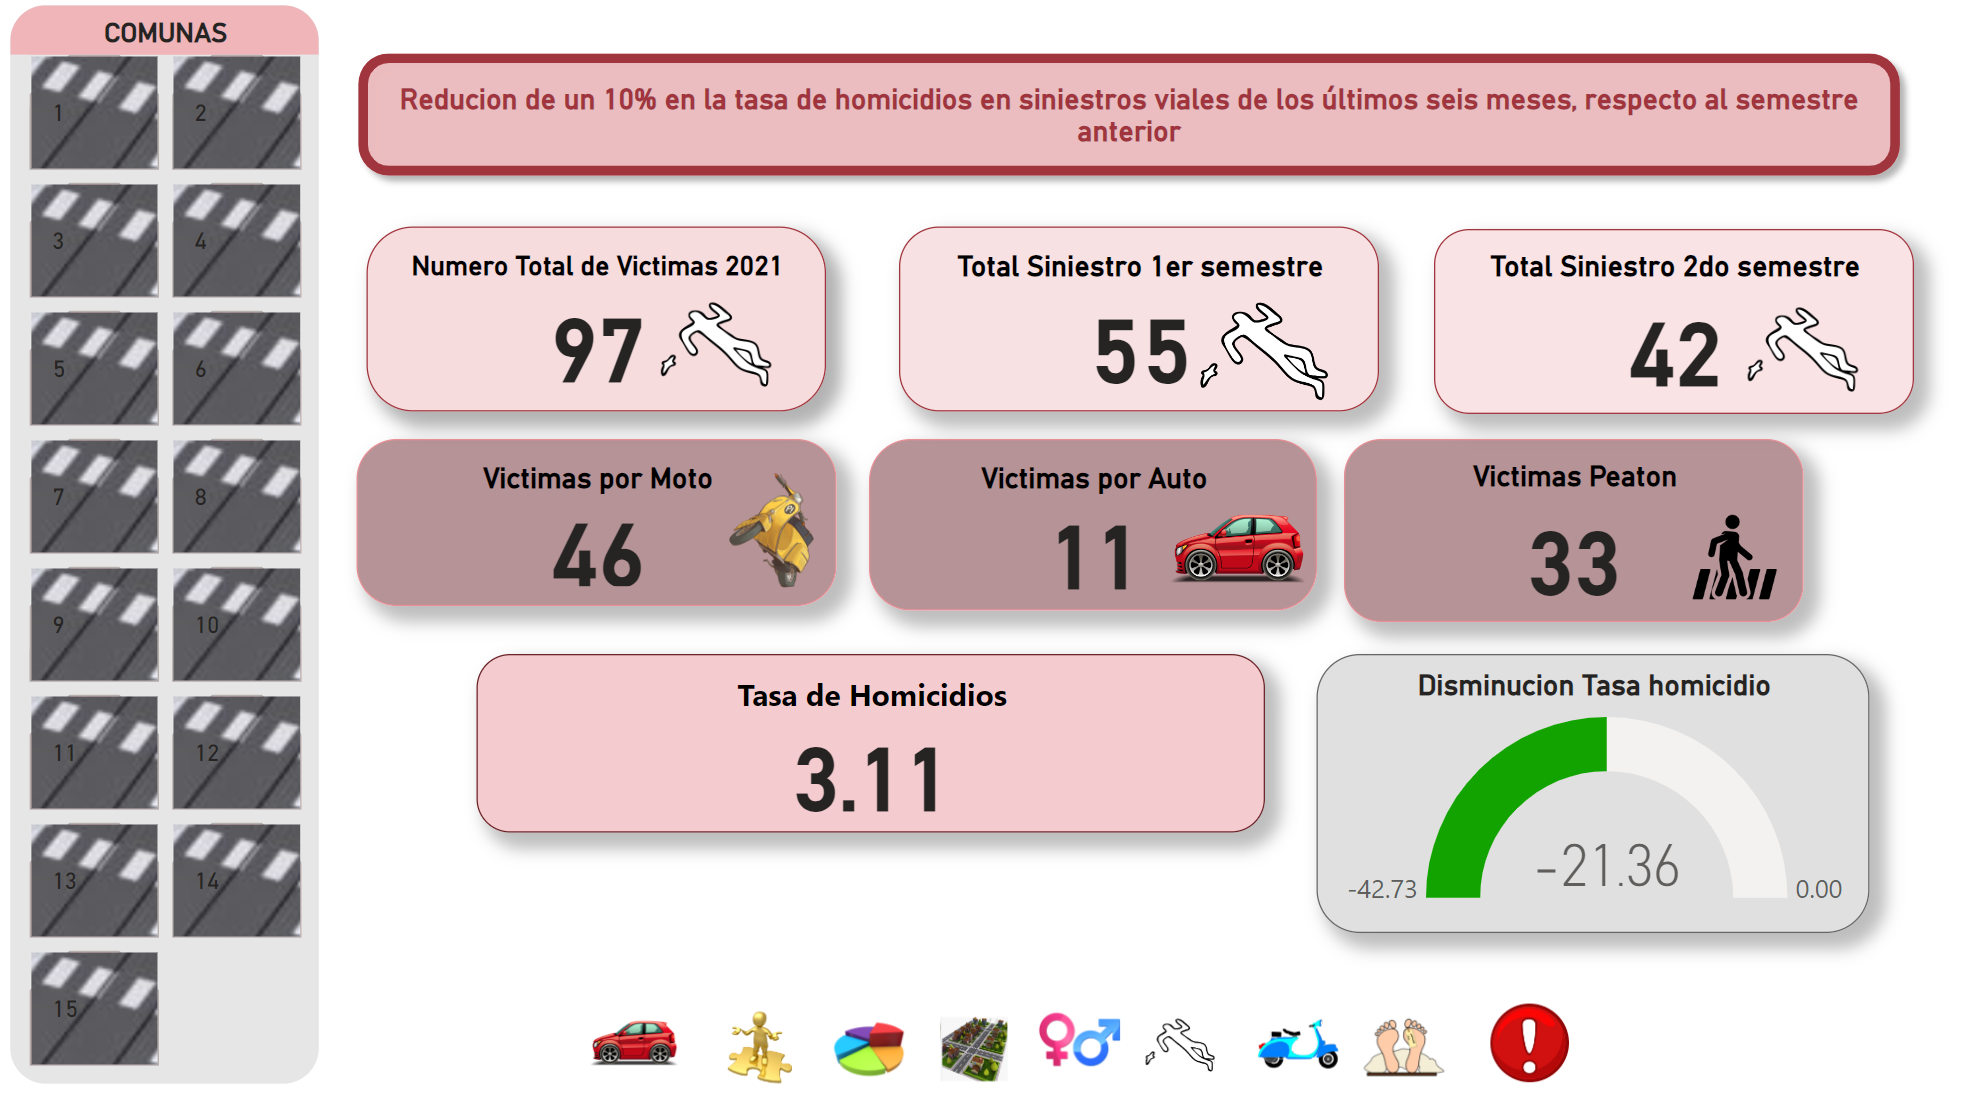

Layout of this report page (visuals, bound fields, positions):
{"tool":"powerbi","page":{"name":"KPI 1","canvas":[1280,720],"ordinal":3},"visuals":[{"type":"card","title":"Siniestros 2021 Total","fields":{"Values":["Homicidios_clean.Total_SiniestrosViales_2021"]},"box":[160.4,182.4,280.2,164.8],"z":0},{"type":"card","title":"Siniestros 1 Semestre","fields":{"Values":["Homicidios_clean.SiniestrosViales_Semestre1_2021"]},"box":[537.4,183.5,280.2,164.8],"z":1000},{"type":"card","title":"Siniestros 2 Semestre","fields":{"Values":["Homicidios_clean.SiniestrosViales_Semestre2_2021_2"]},"box":[897.8,183.5,281.3,163.7],"z":2000},{"type":"card","fields":{"Values":["Homicidios_clean.Tasa de Homicidios"]},"box":[228.6,429.7,281.3,164.8],"z":2002},{"type":"gauge","title":"Disminucion tasa Homicidio","fields":{"Y":["Homicidios_clean.Porcentaje de Reducción"]},"box":[611,429.7,515.4,164.8],"z":2003},{"type":"textbox","box":[107.7,37.4,1071.4,117.6],"z":2004},{"type":"actionButton","box":[0,0,62.6,37.4],"z":2005},{"type":"actionButton","box":[1180.2,17.6,61.5,39.6],"z":2006}]}

Visuals, with their boxes in screenshot pixels (x1, y1, x2, y2), scaled from the page's 1280x720 canvas onto the 1983x1114 screenshot:
"Siniestros 2021 Total" card: x1=248 y1=282 x2=683 y2=537
"Siniestros 1 Semestre" card: x1=833 y1=284 x2=1267 y2=539
"Siniestros 2 Semestre" card: x1=1391 y1=284 x2=1827 y2=537
card - Homicidios_clean.Tasa de Homicidios: x1=354 y1=665 x2=790 y2=920
"Disminucion tasa Homicidio" gauge: x1=947 y1=665 x2=1745 y2=920
textbox: x1=167 y1=58 x2=1827 y2=240
actionButton: x1=0 y1=0 x2=97 y2=58
actionButton: x1=1828 y1=27 x2=1924 y2=89
